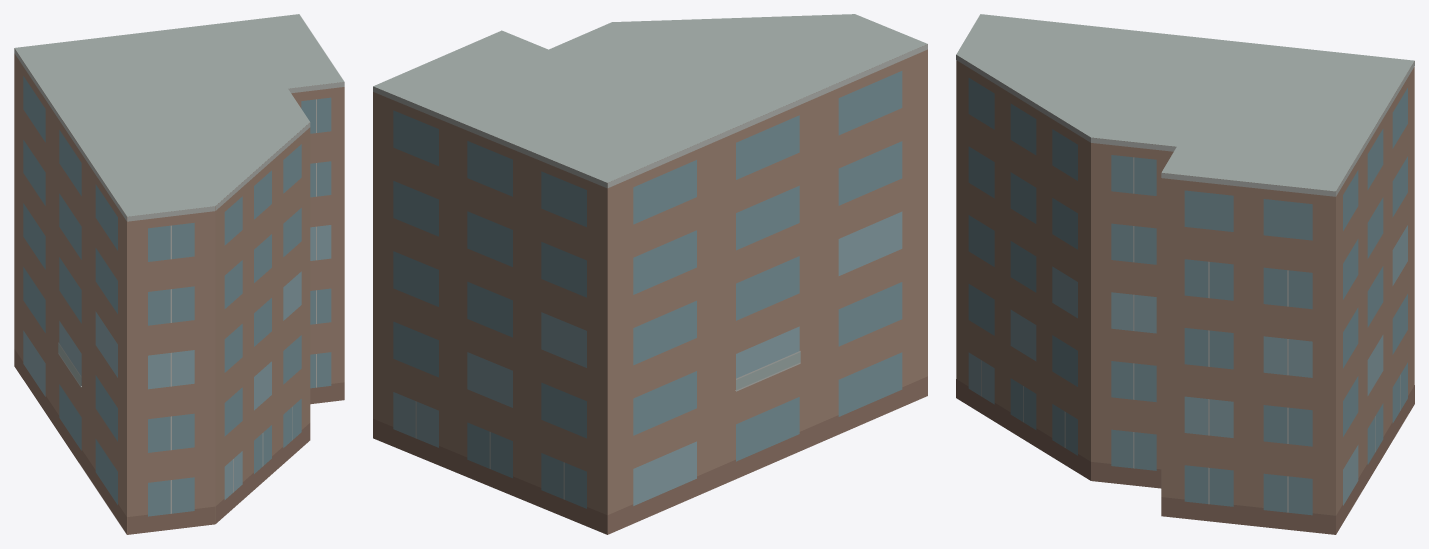
File: survey-upis-32717559.glb
3 views of the same model, side by side, from view 1: azimuth 30°, elevation 25°; view 2: azimuth 150°, elevation 25°; view 3: azimuth 270°, elevation 25° (orthographic). The views are drawn at different scales.
Parts seen in each view (by area): view 1: survey-upis-32717559.tmp; view 2: survey-upis-32717559.tmp; view 3: survey-upis-32717559.tmp.
Boxes of the visible parts, bbox=[...] form: survey-upis-32717559.tmp: bbox=[14, 14, 344, 534]; survey-upis-32717559.tmp: bbox=[373, 14, 927, 534]; survey-upis-32717559.tmp: bbox=[956, 14, 1414, 534].
Bounding box in the file's own units: 17.3 × 15.6 × 18.89.
